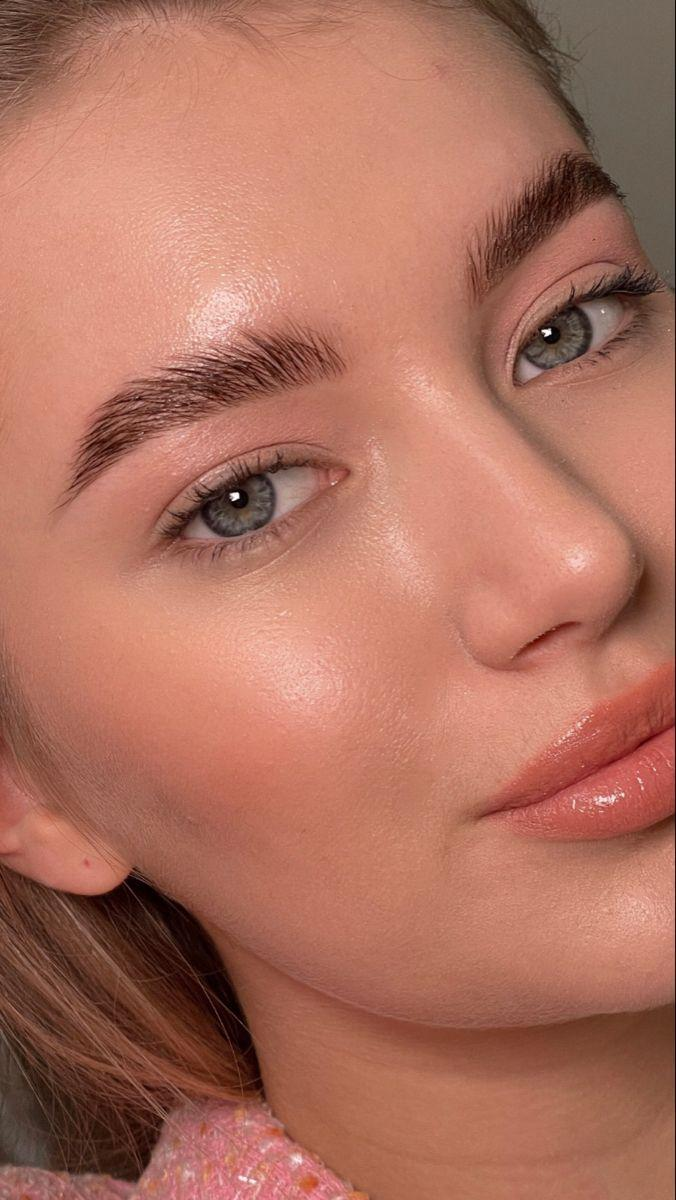Oily-Skin: (374, 406, 574, 642), (234, 638, 416, 828), (498, 838, 676, 1017), (348, 504, 503, 673), (134, 228, 309, 350)
